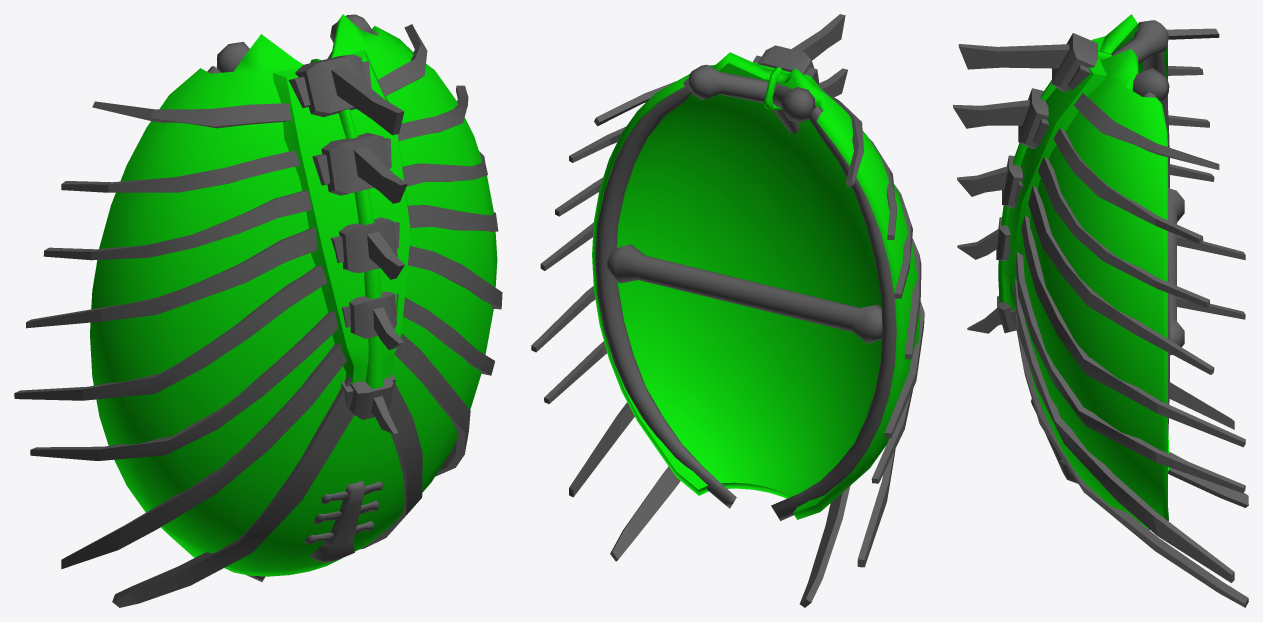
Rendered from Shield_03.fbx.
3 renders of one model, left to right at view 1: azimuth 30°, elevation 25°; view 2: azimuth 150°, elevation 25°; view 3: azimuth 270°, elevation 25°, orthographic. The views are drawn at different scales.
Parts seen in each view (by area): view 1: Shield; view 2: Shield; view 3: Shield.
Part boxes in pixels (bbox=[...]): Shield: bbox=[14, 14, 502, 607]; Shield: bbox=[531, 14, 924, 607]; Shield: bbox=[953, 14, 1248, 607].
Bounding box in the file's own units: 4.79 × 5.99 × 3.05.
